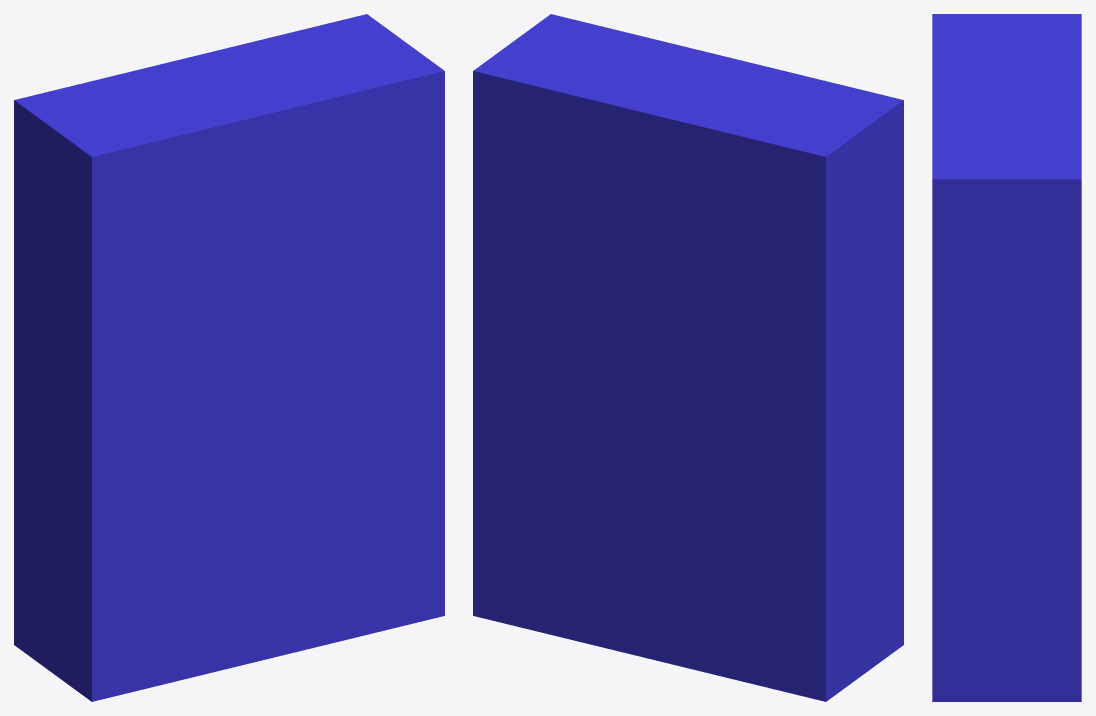
File: CerealiIntegrali500g.fbx
3 views of the same model, side by side, from view 1: azimuth 30°, elevation 25°; view 2: azimuth 150°, elevation 25°; view 3: azimuth 270°, elevation 25° (orthographic). The views are drawn at different scales.
Parts seen in each view (by area): view 1: CerealiPrimoTipoGrande; view 2: CerealiPrimoTipoGrande; view 3: CerealiPrimoTipoGrande.
Boxes of the visible parts, x1,y1,x2,y2 form: CerealiPrimoTipoGrande: [14, 14, 444, 701]; CerealiPrimoTipoGrande: [473, 14, 903, 701]; CerealiPrimoTipoGrande: [932, 14, 1081, 701].
Bounding box in the file's own units: 276 × 407 × 105.
